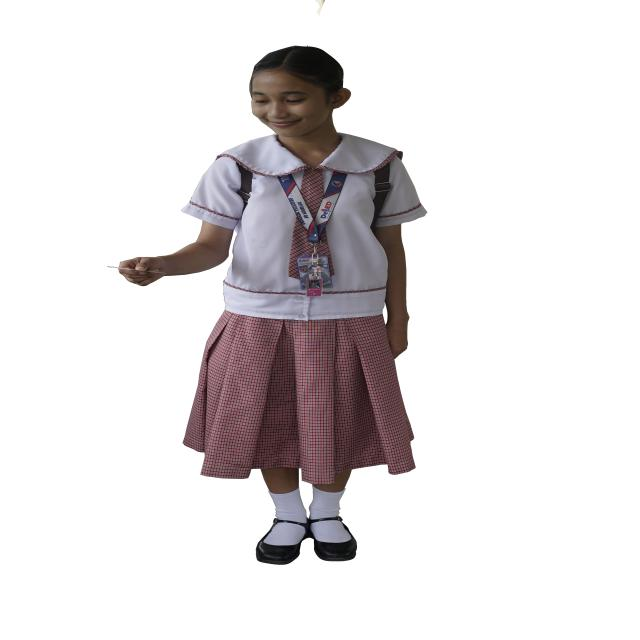id lace: (278, 171, 346, 245)
pologirl: (182, 134, 425, 321), (288, 216, 312, 279), (299, 168, 325, 219), (318, 228, 334, 276)
shoes: (256, 516, 357, 565)
skirt: (184, 311, 415, 483)
